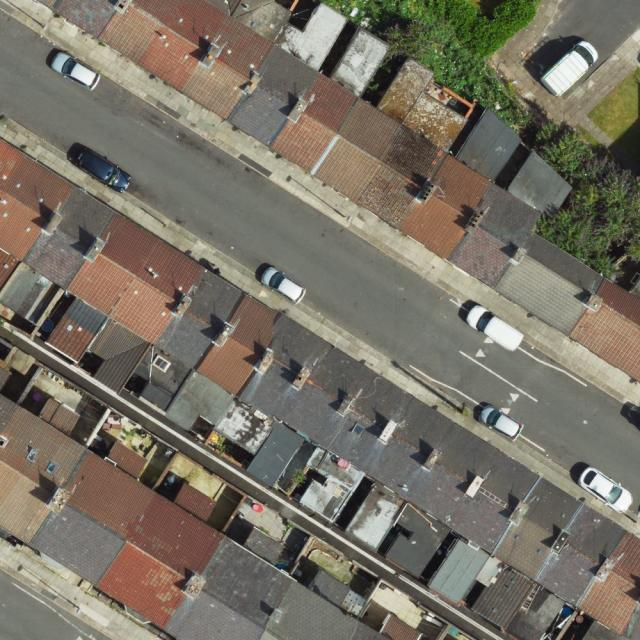roof: (0, 139, 640, 635), (38, 1, 640, 384), (0, 391, 424, 640)
skylight: (151, 354, 171, 373), (44, 459, 58, 475), (352, 424, 365, 438), (26, 448, 38, 462)
